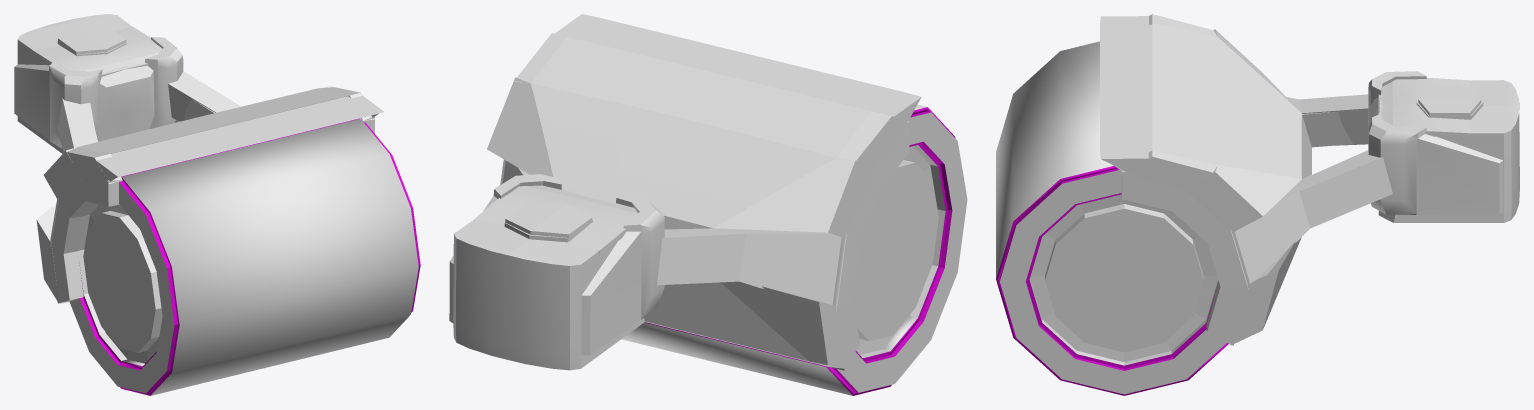
File: roller.fbx
The picture shows the model from 3 angles, left to right: view 1: azimuth 30°, elevation 25°; view 2: azimuth 150°, elevation 25°; view 3: azimuth 270°, elevation 25°; orthographic projection. The views are drawn at different scales.
Visible parts, largest first — view 1: Cylinder, Turret; view 2: Cylinder, Turret; view 3: Cylinder, Turret.
Part boxes in pixels (x1,y1,x2,y2): Cylinder: (36,71,420,395); Turret: (14,14,183,153); Cylinder: (487,14,967,395); Turret: (449,174,664,370); Cylinder: (996,14,1392,395); Turret: (1368,71,1519,222).
Size of the model in its own units: 195 by 126 by 101.
